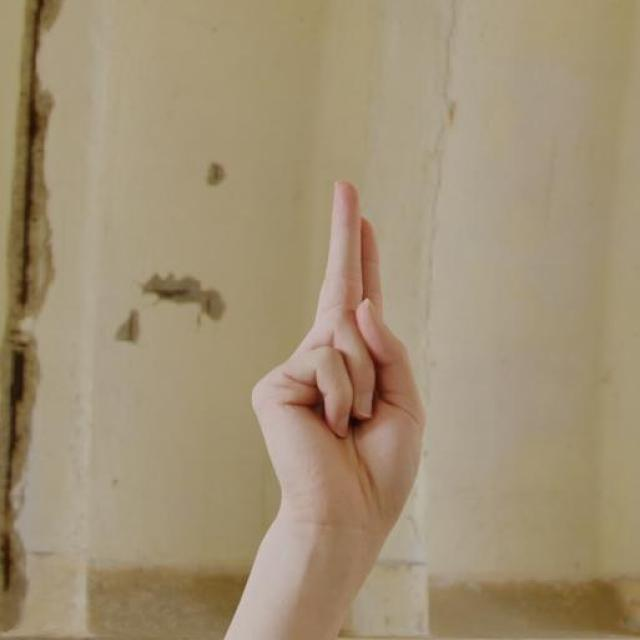U: (244, 173, 431, 539)
